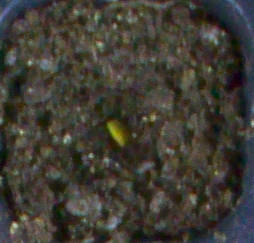chilli seed: (106, 120, 125, 146)
